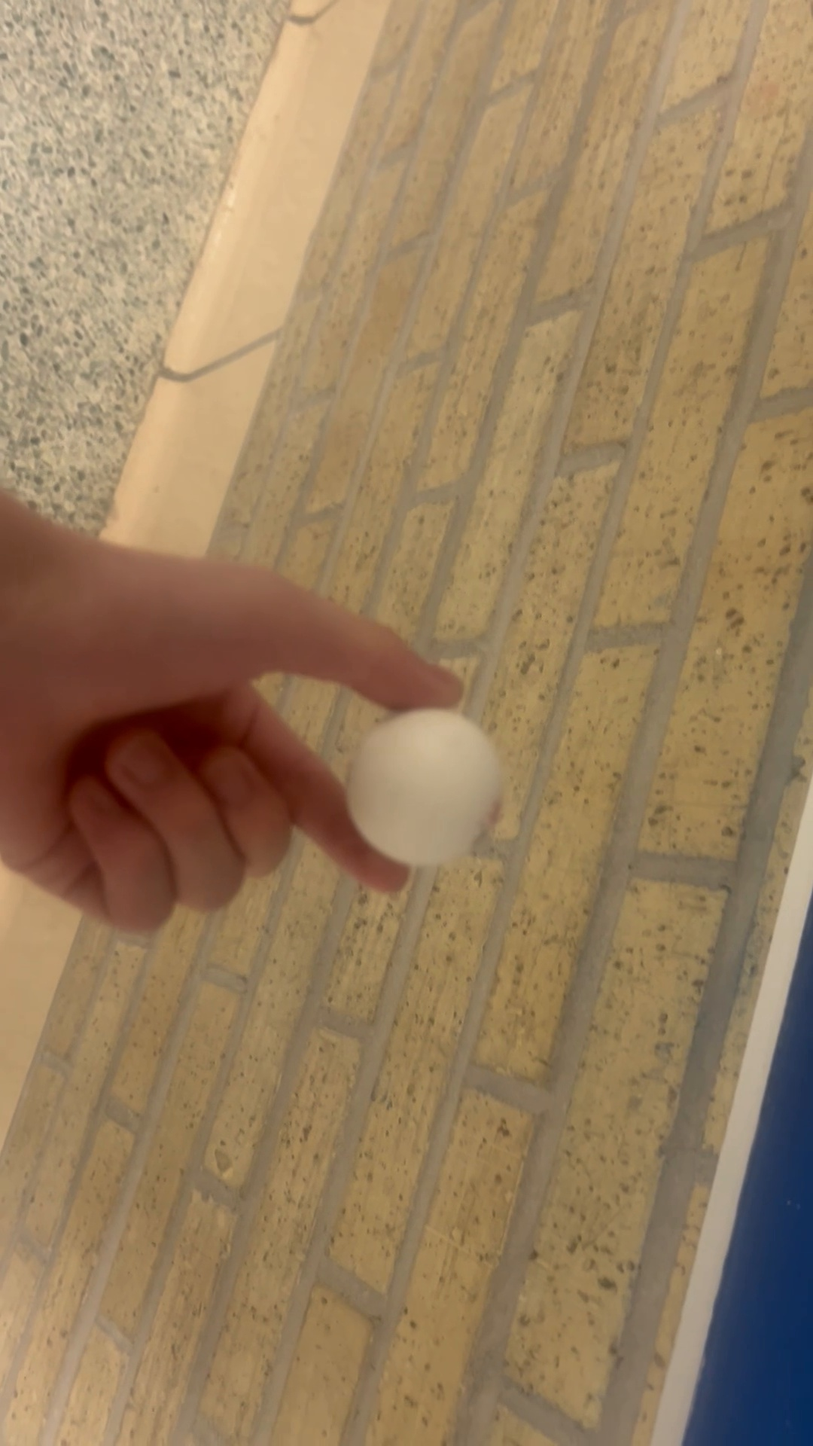Ball: (340, 698, 520, 867)
